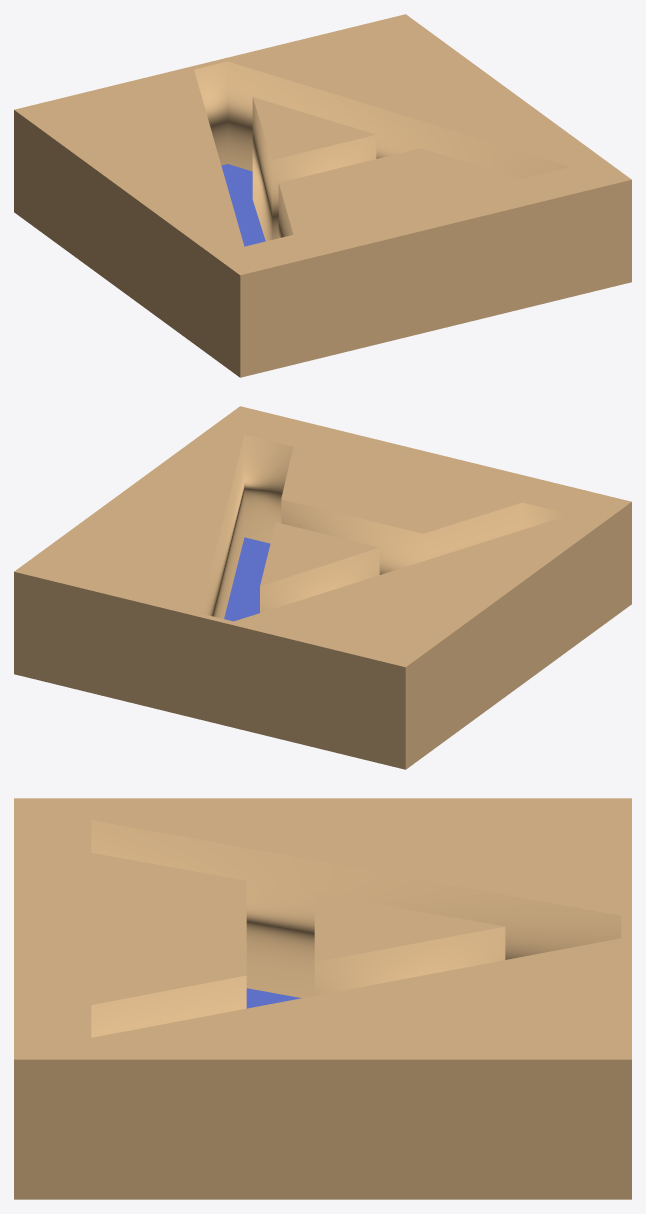
File: A_mold_blue.gltf
3 views of the same model, one above another, from view 1: azimuth 30°, elevation 25°; view 2: azimuth 150°, elevation 25°; view 3: azimuth 270°, elevation 25° (orthographic). The views are drawn at different scales.
Parts seen in each view (by area): view 1: Mold, Base; view 2: Mold, Base; view 3: Mold, Base.
Part boxes in pixels (x1,y1,x2,y2): Mold: (14,14,631,377); Base: (221,164,265,246); Mold: (14,406,631,769); Base: (224,537,270,621); Mold: (14,798,631,1199); Base: (246,988,301,1008).
Bounding box in the file's own units: 0.2 × 0.05 × 0.2.
